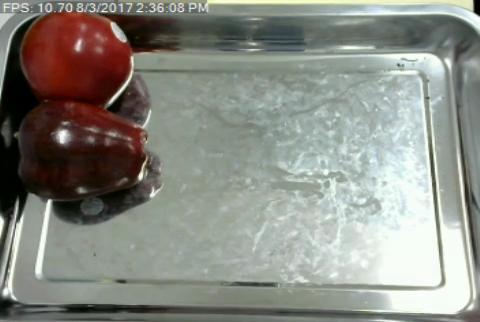Apple: (12, 97, 153, 203), (17, 5, 135, 110)
